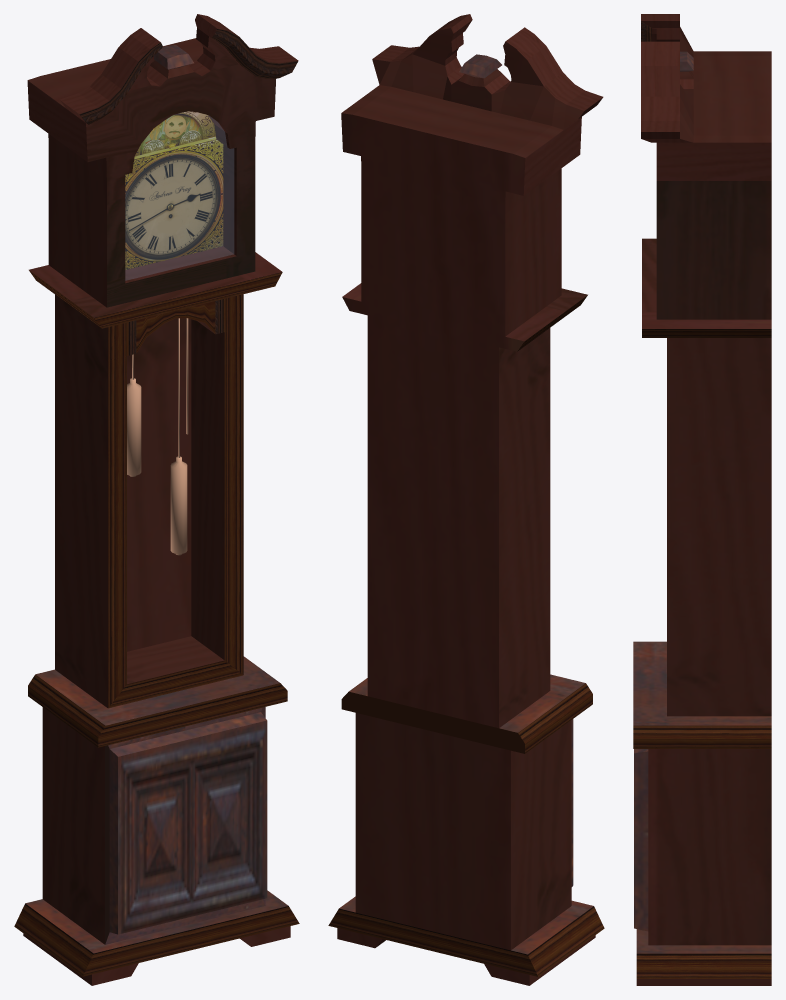
Rendered from GrandfatherClock.fbx.
3 renders of one model, left to right at view 1: azimuth 30°, elevation 25°; view 2: azimuth 150°, elevation 25°; view 3: azimuth 270°, elevation 25°, orthographic. The views are drawn at different scales.
Visible parts, largest first — view 1: Grandfather Clock_LOD0; view 2: Grandfather Clock_LOD0; view 3: Grandfather Clock_LOD0.
Boxes of the visible parts, x1=… form: Grandfather Clock_LOD0: x1=14, y1=14, x2=299, y2=985; Grandfather Clock_LOD0: x1=328, y1=14, x2=604, y2=985; Grandfather Clock_LOD0: x1=633, y1=14, x2=771, y2=985.
Size of what is drawn, in the model's own units: 223 by 900 by 124.
